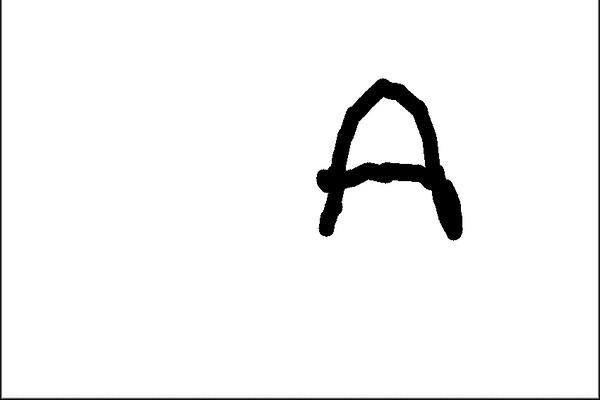A: (305, 65, 475, 253)
